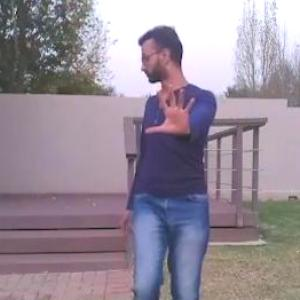follow_hand: (145, 82, 197, 138)
